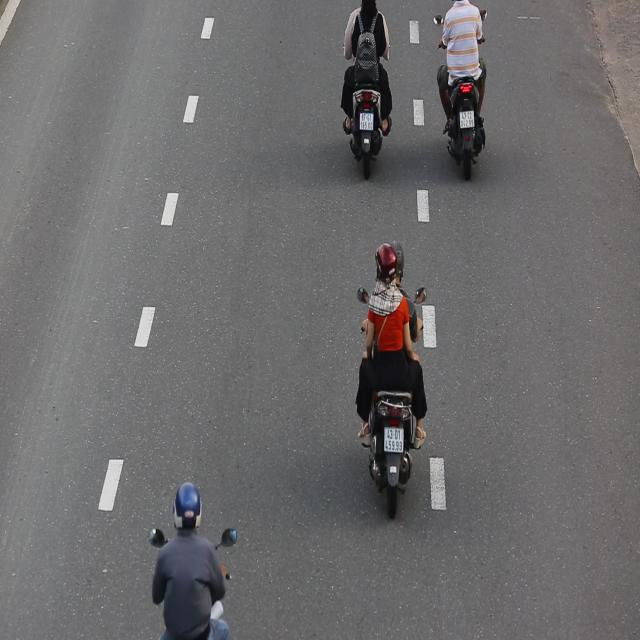motorbike: (346, 223, 438, 523)
